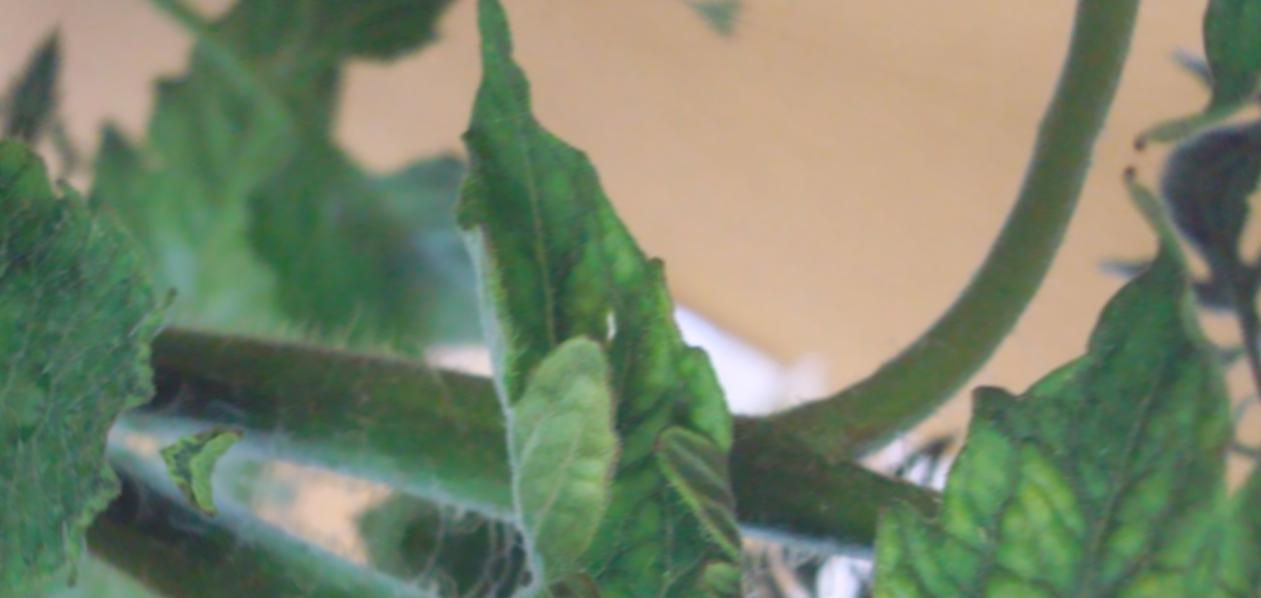Tomato leaf mosaic virus: (298, 0, 1101, 598), (773, 185, 1261, 598), (0, 17, 359, 477)
